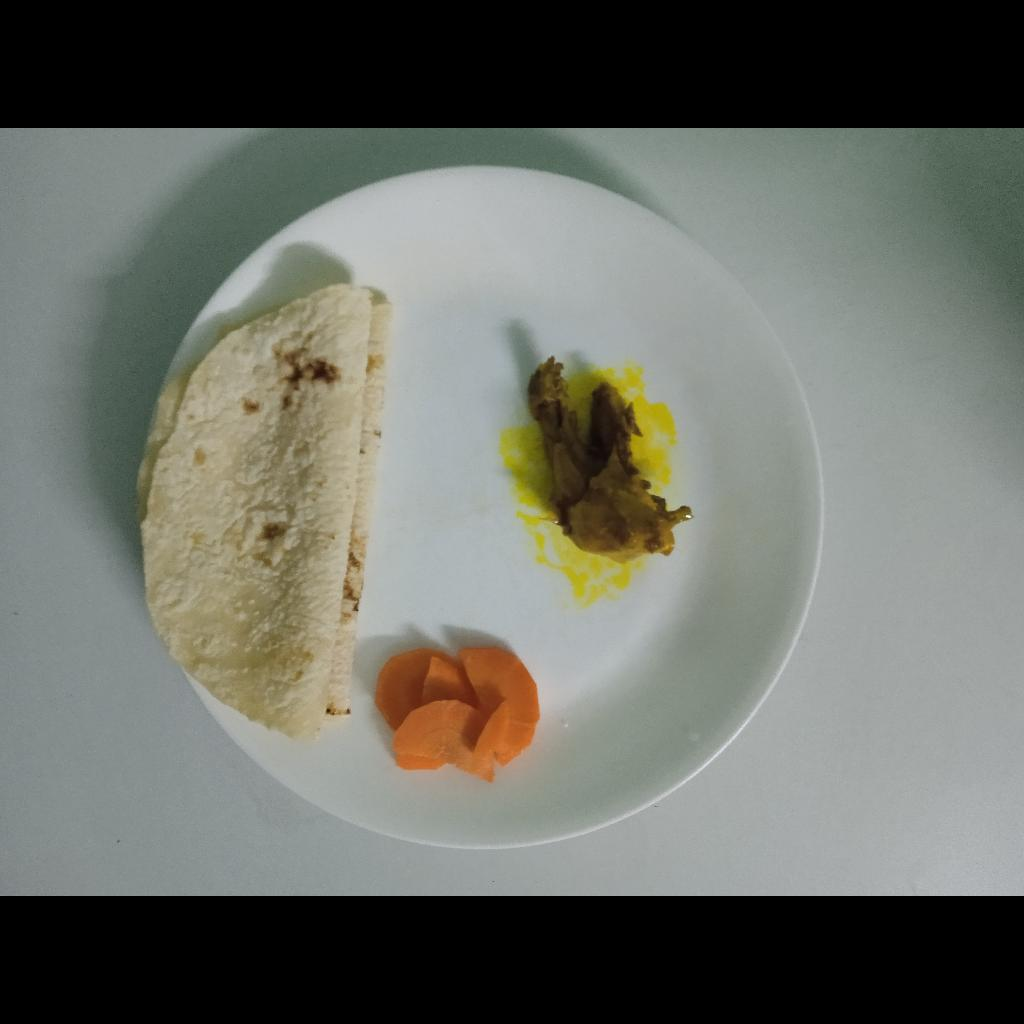carrot: (374, 646, 543, 786)
chicken: (526, 355, 695, 566)
ruti: (138, 282, 394, 744)
